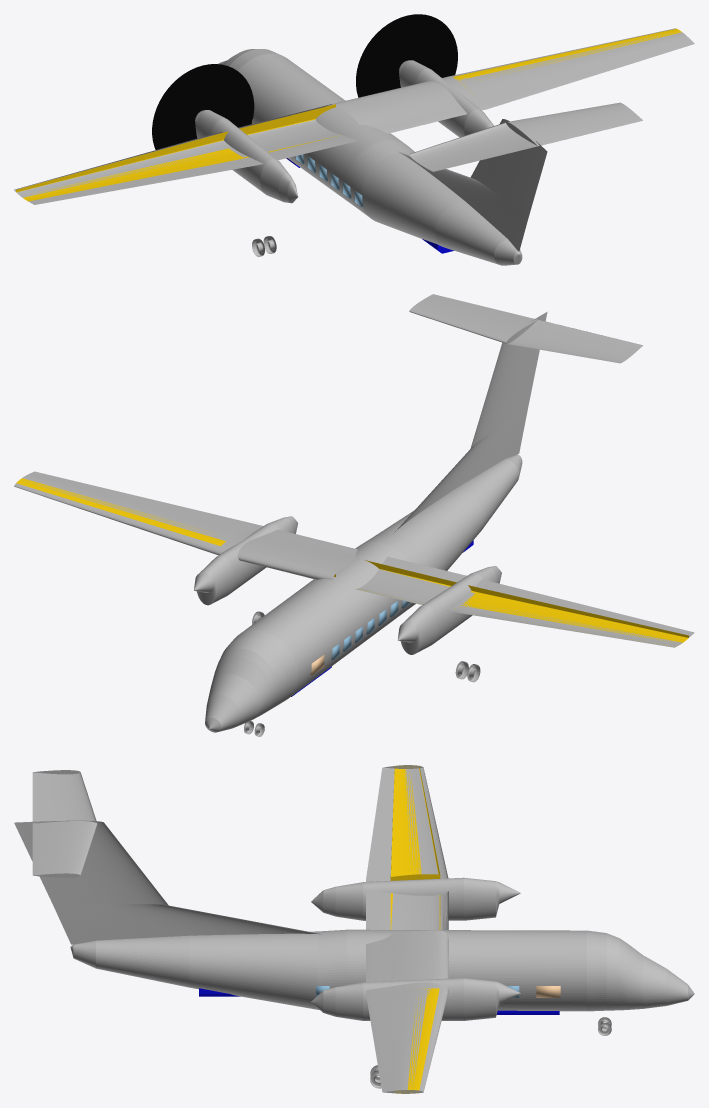
File: DHC8_100.gltf
3 renders of one model, top to bottom at view 1: azimuth 30°, elevation 25°; view 2: azimuth 150°, elevation 25°; view 3: azimuth 270°, elevation 25°, orthographic.
Visible parts, largest first — view 1: Renderer Node; view 2: Renderer Node; view 3: Renderer Node.
Boxes of the visible parts, x1=… form: Renderer Node: x1=14, y1=14, x2=694, y2=265; Renderer Node: x1=14, y1=294, x2=694, y2=736; Renderer Node: x1=14, y1=765, x2=694, y2=1093.
Bounding box in the file's own units: 25.57 × 7.85 × 22.66.
